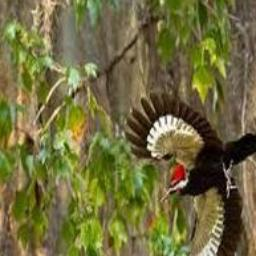Woodpecker: (121, 90, 256, 256)
